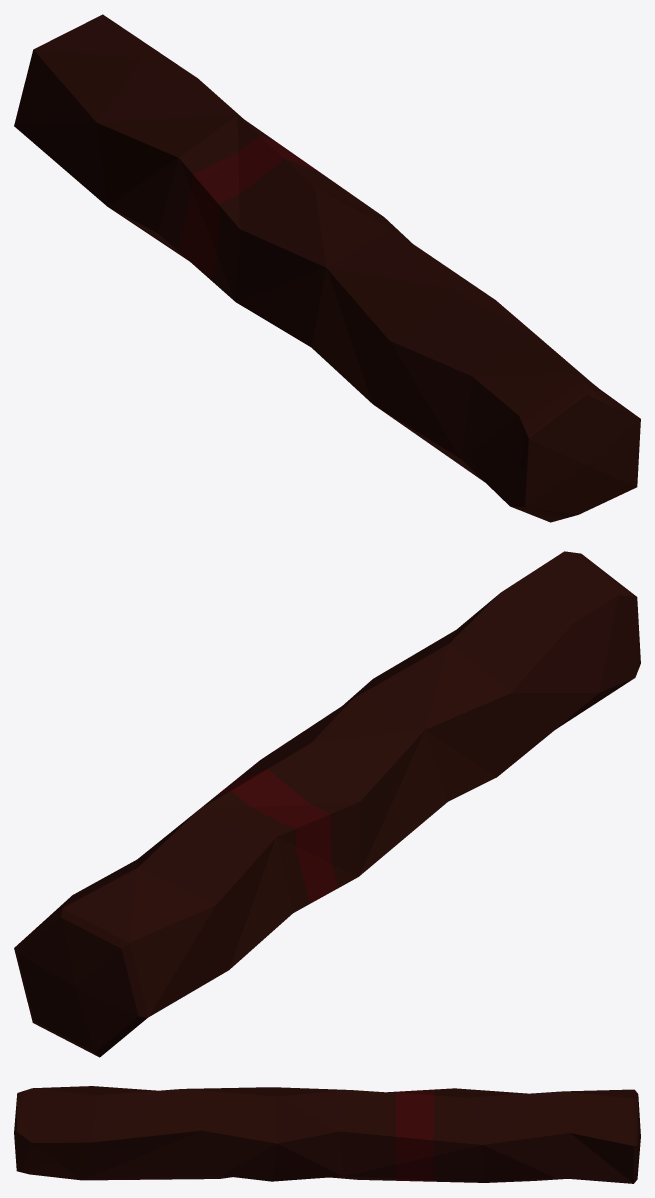
Rendered from WW_cigar_prop.fbx.
3 renders of one model, top to bottom at view 1: azimuth 30°, elevation 25°; view 2: azimuth 150°, elevation 25°; view 3: azimuth 270°, elevation 25°, orthographic. The views are drawn at different scales.
Visible parts, largest first — view 1: cigar; view 2: cigar; view 3: cigar.
Part boxes in pixels (x1,y1,x2,y2): cigar: [14, 14, 640, 522]; cigar: [14, 551, 640, 1057]; cigar: [14, 1086, 640, 1183].
Size of the model in its own units: 4.87 by 4.91 by 29.81.
